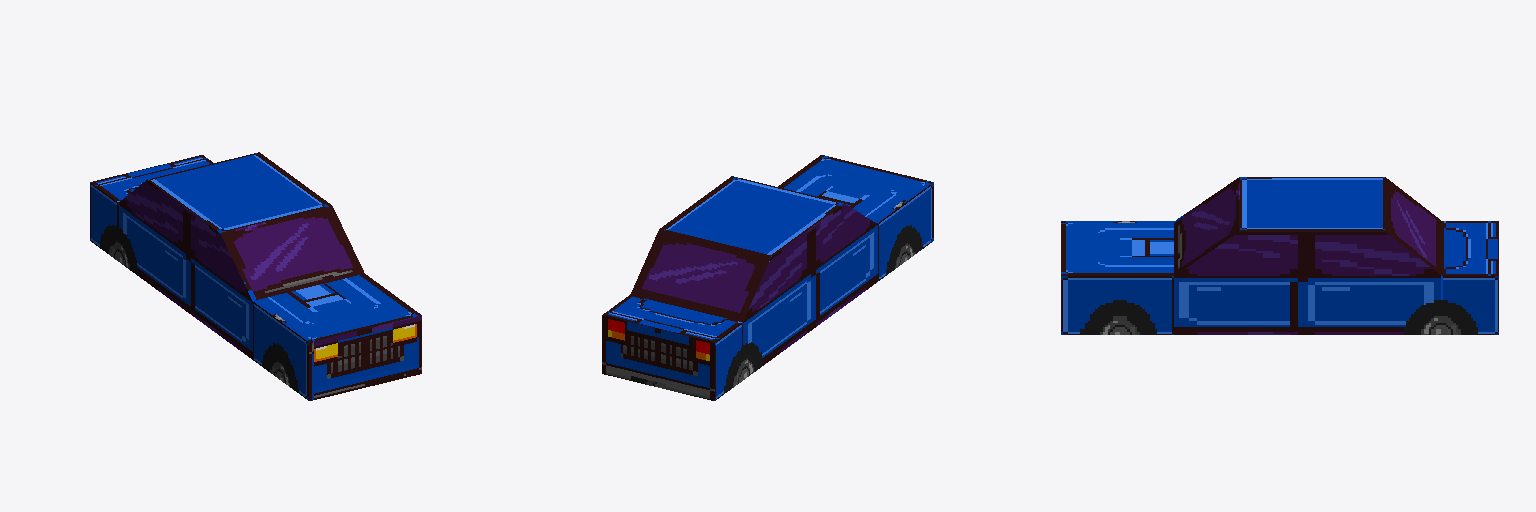
3 views of the same model, side by side, from view 1: azimuth 30°, elevation 25°; view 2: azimuth 150°, elevation 25°; view 3: azimuth 270°, elevation 25° (orthographic).
Parts seen in each view (by area): view 1: Car; view 2: Car; view 3: Car.
Boxes of the visible parts, x1=… form: Car: x1=90, y1=152, x2=421, y2=400; Car: x1=602, y1=155, x2=933, y2=400; Car: x1=1061, y1=177, x2=1498, y2=334.
Bounding box in the file's own units: 2 × 1.75 × 6.75.
1 materials, 1 textured.